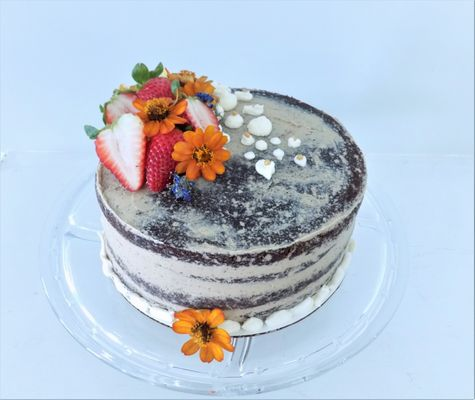sushi: (86, 63, 367, 332)
